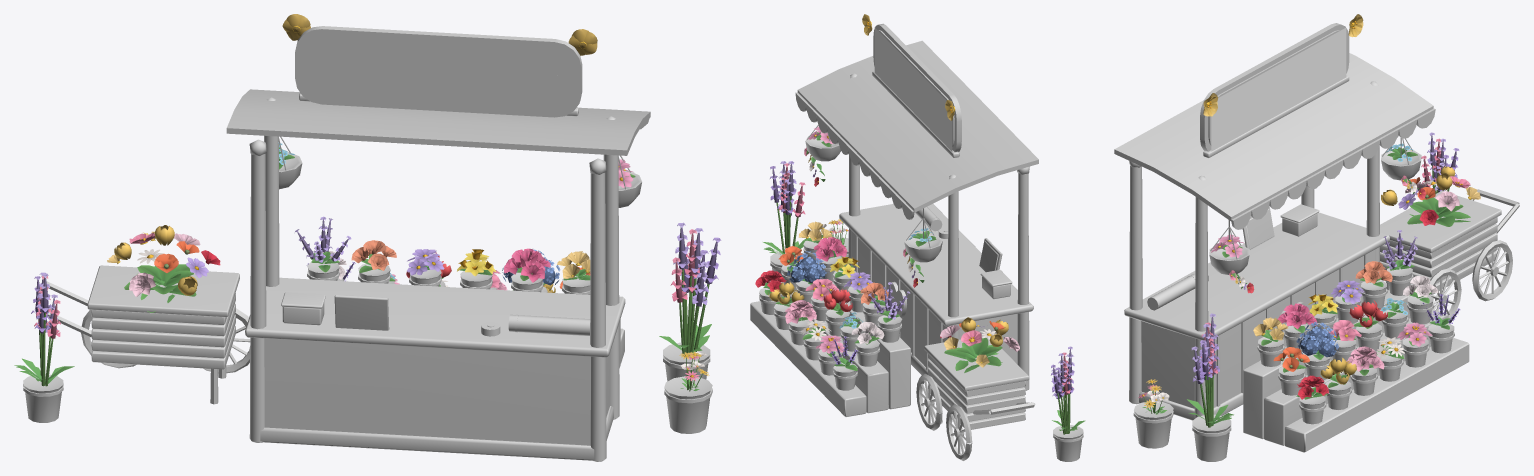
The model's file is zon_bakery_stall.glb.
The picture shows the model from 3 angles, left to right: view 1: azimuth 30°, elevation 25°; view 2: azimuth 150°, elevation 25°; view 3: azimuth 270°, elevation 25°; orthographic projection. The views are drawn at different scales.
Visible parts, largest first — view 1: SM_zon_bakery_stall_kit_stall_xm1_z0, SM_zon_bakery_stall_vc_palette_xm1_z0_LOD0; view 2: SM_zon_bakery_stall_kit_stall_xm1_z0, SM_zon_bakery_stall_vc_palette_xm1_z0_LOD0, SCREEN_prp_stall_sign__0; view 3: SM_zon_bakery_stall_kit_stall_xm1_z0, SM_zon_bakery_stall_vc_palette_xm1_z0_LOD0, SCREEN_prp_stall_sign__0.
Part boxes in pixels (box(x1,y1,x2,y2)): SM_zon_bakery_stall_kit_stall_xm1_z0: box(23, 26, 712, 461); SM_zon_bakery_stall_vc_palette_xm1_z0_LOD0: box(14, 14, 721, 391); SM_zon_bakery_stall_kit_stall_xm1_z0: box(750, 23, 1083, 461); SM_zon_bakery_stall_vc_palette_xm1_z0_LOD0: box(755, 14, 1085, 434); SCREEN_prp_stall_sign__0: box(874, 27, 952, 151); SM_zon_bakery_stall_kit_stall_xm1_z0: box(1114, 23, 1519, 461); SM_zon_bakery_stall_vc_palette_xm1_z0_LOD0: box(1138, 14, 1480, 427); SCREEN_prp_stall_sign__0: box(1211, 28, 1346, 151).
Bounding box in the file's own units: 5.26 × 3.54 × 4.02.
